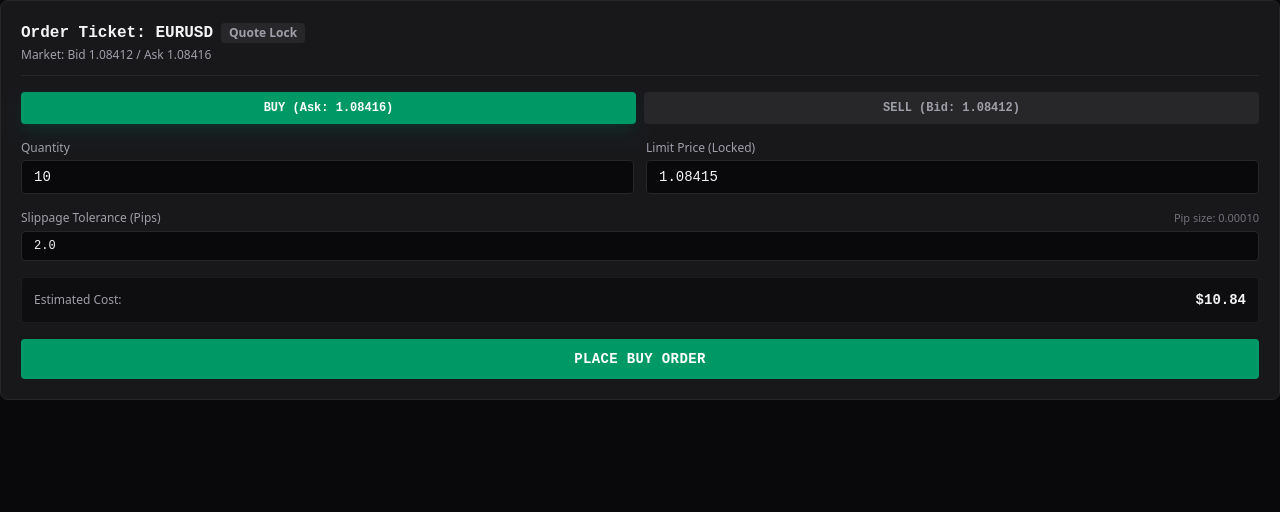
Test: OrderTicket Component › places the order directly when the move is within tolerance
Click the button "PLACE BUY ORDER": (640, 358) left=21, top=338, right=1259, bottom=378
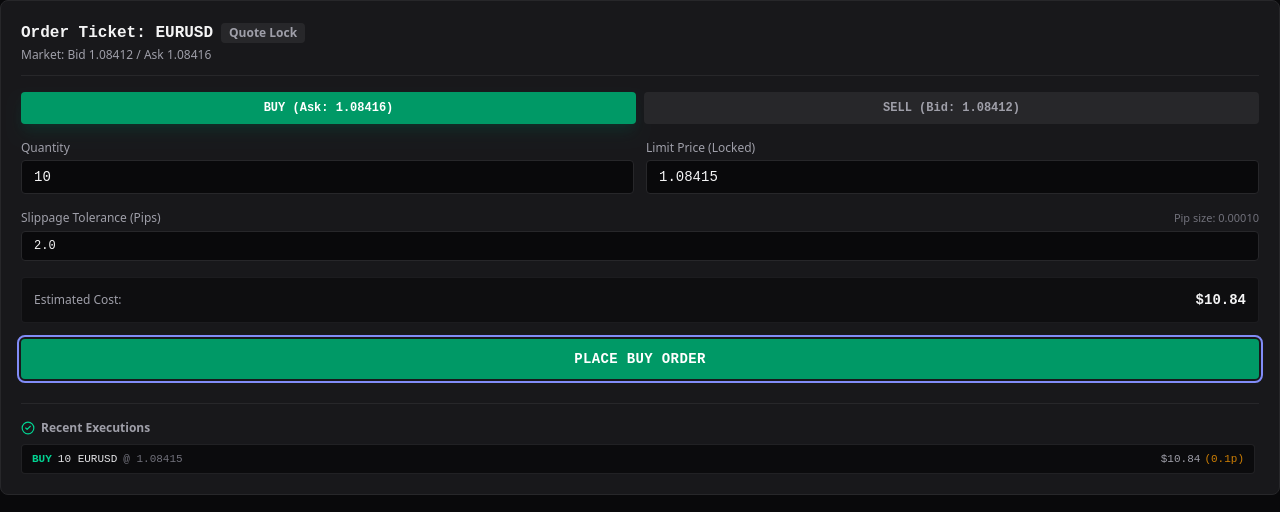
Check: the heading "Recent Executions" is shown, box left=21, top=418, right=150, bottom=436
Check: the text "@ 1.08415" is shown, box left=123, top=452, right=183, bottom=464
